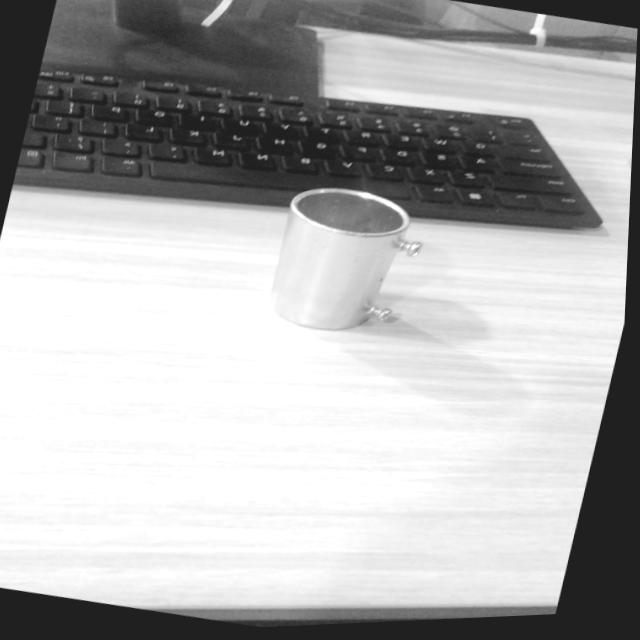Co_Lon: (265, 177, 429, 346)
